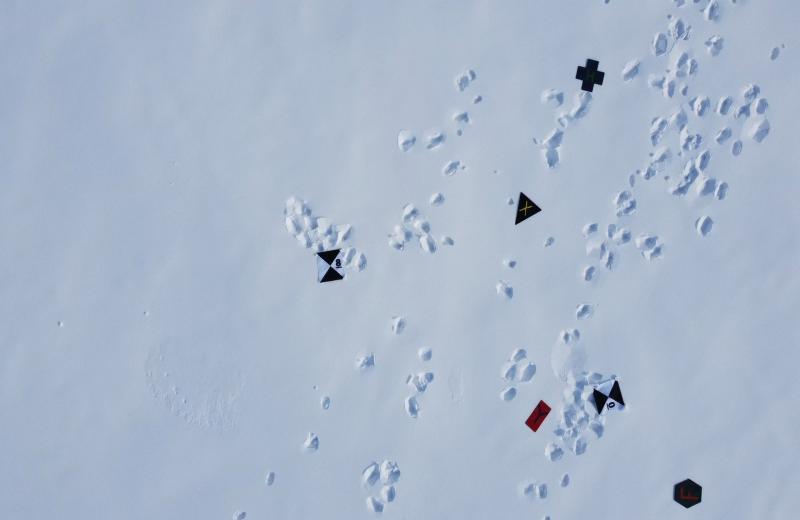Cross: (575, 56, 606, 96)
Hexagon: (673, 479, 705, 513)
Rectangle: (523, 400, 552, 435)
Triangle: (513, 191, 542, 228)
